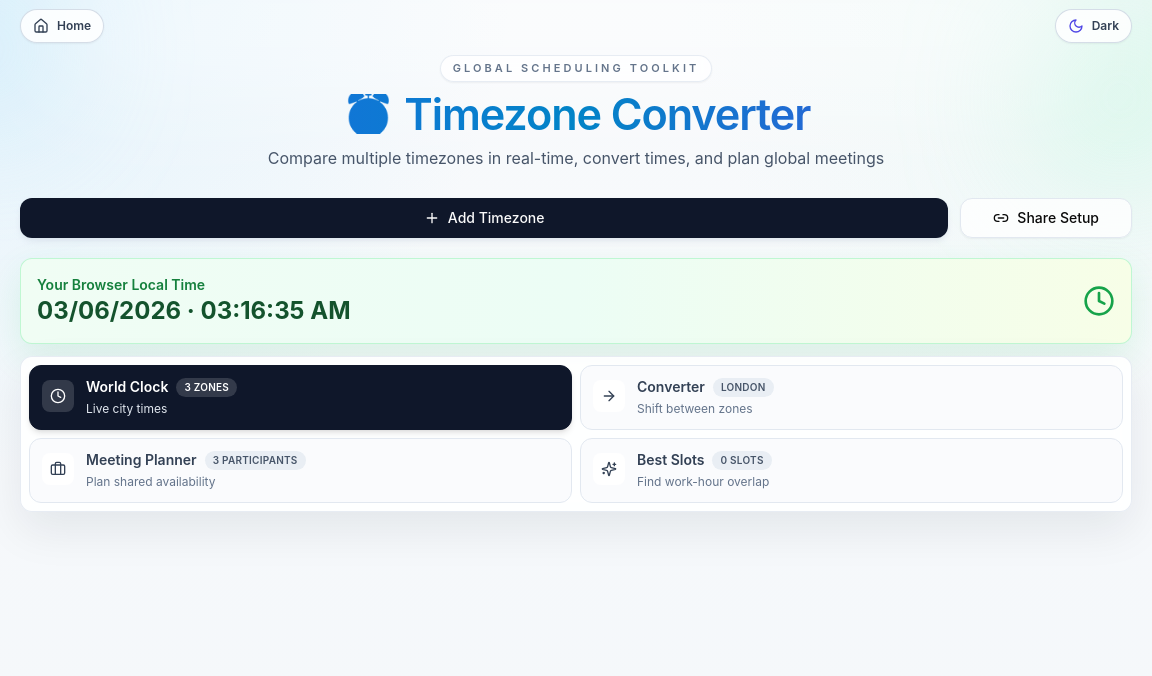
Test: TimezoneConverter Component - Hardcoded Data Version › opens converter view and shows conversion panels
Click the tab "Converter London Shift between zones". click: point(609, 396)
box: [580, 364, 1123, 430]
(page scrolled)
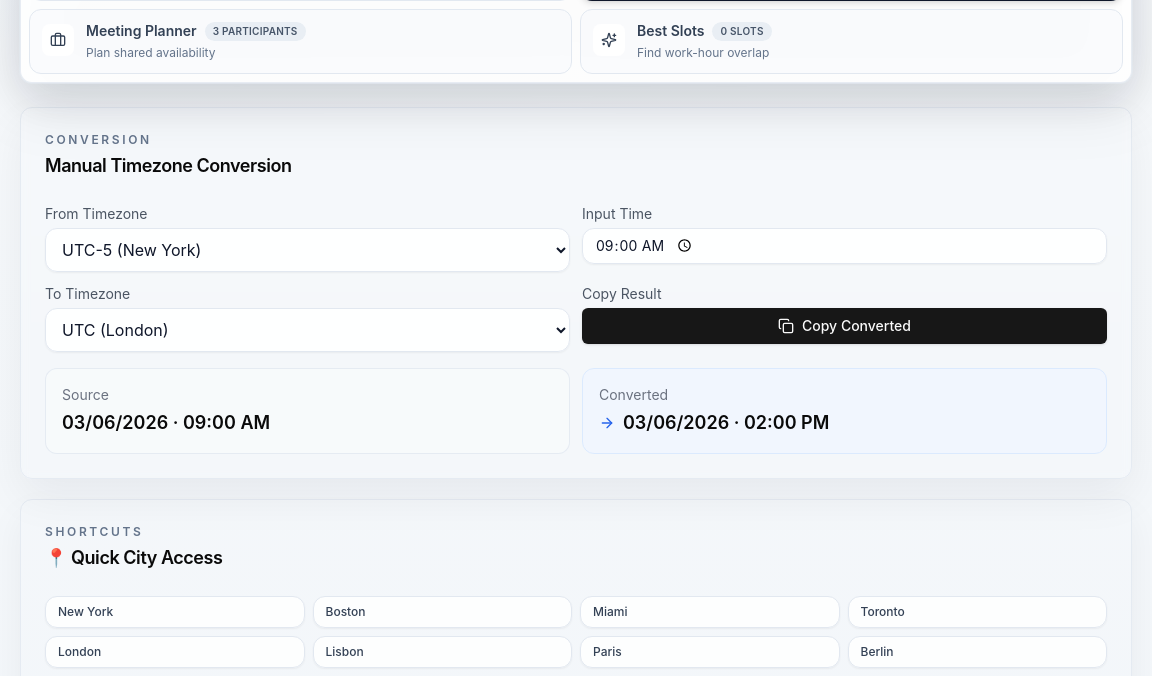
Expected: the text "Manual Timezone Conversion" is shown, [45, 154, 292, 176]
Expected: the text "Source" is shown, [62, 386, 109, 402]
Expected: the button "Copy Converted" is shown, [582, 308, 1107, 344]
